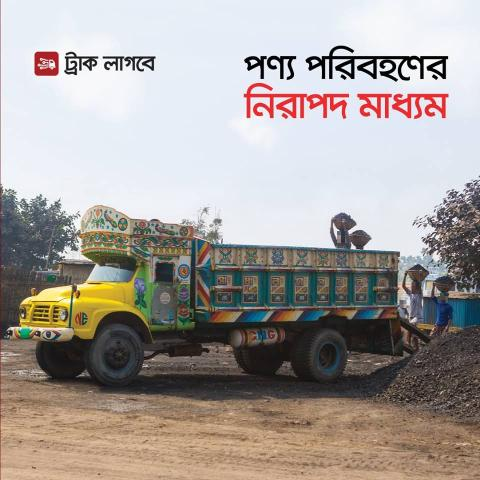truck: (4, 190, 408, 416)
